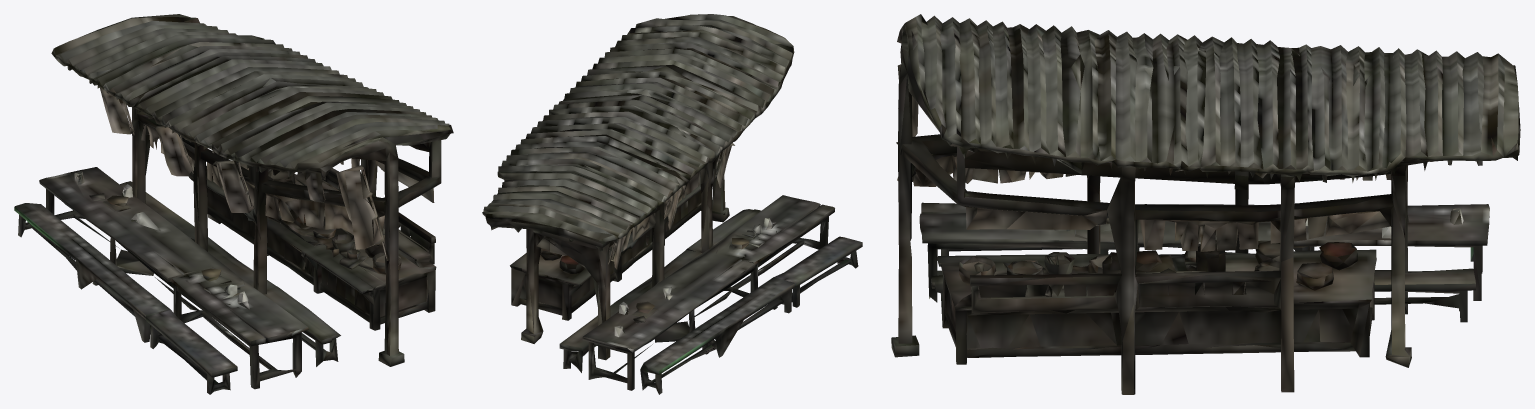
Rendered from Cafeteria.glb.
3 views of the same model, side by side, from view 1: azimuth 30°, elevation 25°; view 2: azimuth 150°, elevation 25°; view 3: azimuth 270°, elevation 25° (orthographic). The views are drawn at different scales.
Parts seen in each view (by area): view 1: tripo_part_0, tripo_part_1, tripo_part_2, tripo_part_4, tripo_part_5, tripo_part_9, tripo_part_3, tripo_part_7, tripo_part_11, tripo_part_15, tripo_part_10, tripo_part_8; view 2: tripo_part_0, tripo_part_2, tripo_part_1, tripo_part_4, tripo_part_5, tripo_part_13, tripo_part_8; view 3: tripo_part_0, tripo_part_1, tripo_part_2, tripo_part_3, tripo_part_6, tripo_part_5, tripo_part_16, tripo_part_7, tripo_part_20, tripo_part_14, tripo_part_19, tripo_part_4.
Part boxes in pixels (bbox=[...]): tripo_part_0: bbox=[51, 14, 453, 179]; tripo_part_1: bbox=[132, 107, 441, 366]; tripo_part_2: bbox=[39, 167, 308, 389]; tripo_part_4: bbox=[14, 203, 237, 394]; tripo_part_5: bbox=[120, 181, 340, 366]; tripo_part_9: bbox=[336, 165, 389, 260]; tripo_part_3: bbox=[267, 180, 401, 274]; tripo_part_7: bbox=[265, 193, 384, 234]; tripo_part_11: bbox=[155, 126, 193, 176]; tripo_part_15: bbox=[99, 87, 134, 134]; tripo_part_10: bbox=[306, 173, 325, 202]; tripo_part_8: bbox=[207, 162, 254, 207]; tripo_part_0: bbox=[482, 14, 794, 251]; tripo_part_2: bbox=[582, 195, 834, 390]; tripo_part_1: bbox=[510, 142, 734, 360]; tripo_part_4: bbox=[640, 236, 862, 394]; tripo_part_5: bbox=[559, 209, 760, 372]; tripo_part_13: bbox=[609, 216, 649, 254]; tripo_part_8: bbox=[664, 171, 700, 212]; tripo_part_0: bbox=[897, 14, 1520, 182]; tripo_part_1: bbox=[891, 74, 1411, 394]; tripo_part_2: bbox=[919, 202, 1489, 302]; tripo_part_3: bbox=[959, 240, 1225, 292]; tripo_part_6: bbox=[1140, 218, 1307, 251]; tripo_part_5: bbox=[931, 209, 1475, 328]; tripo_part_16: bbox=[964, 206, 1106, 229]; tripo_part_7: bbox=[912, 154, 1075, 186]; tripo_part_20: bbox=[1325, 211, 1390, 236]; tripo_part_14: bbox=[1319, 242, 1357, 270]; tripo_part_19: bbox=[1296, 262, 1333, 290]; tripo_part_4: bbox=[941, 245, 1473, 261].
Size of the model in its own units: 0.5862 by 0.5221 by 0.9793.
1 material, 1 textured.
